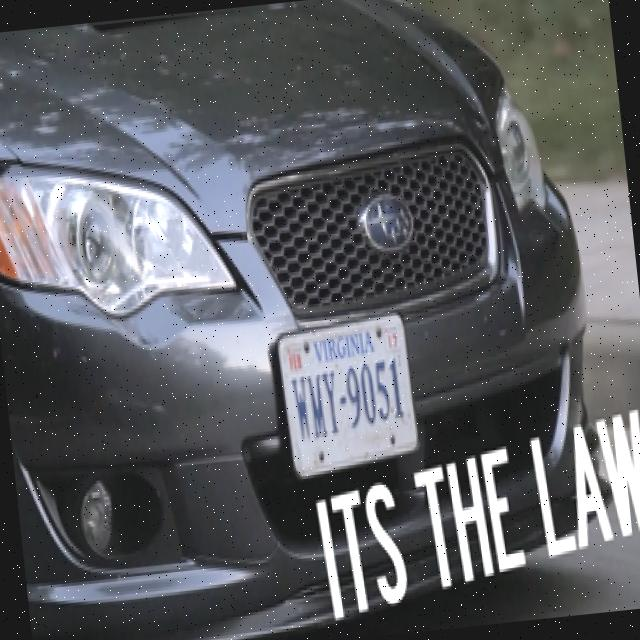Autre: (273, 312, 420, 478)
